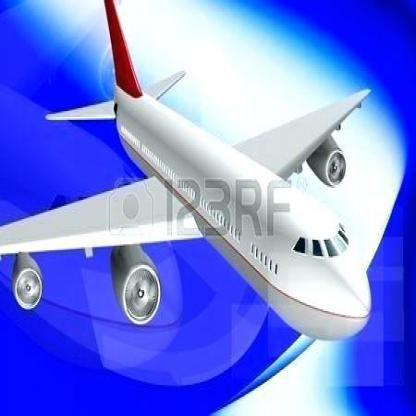CIV_Plane: (2, 5, 374, 348)
